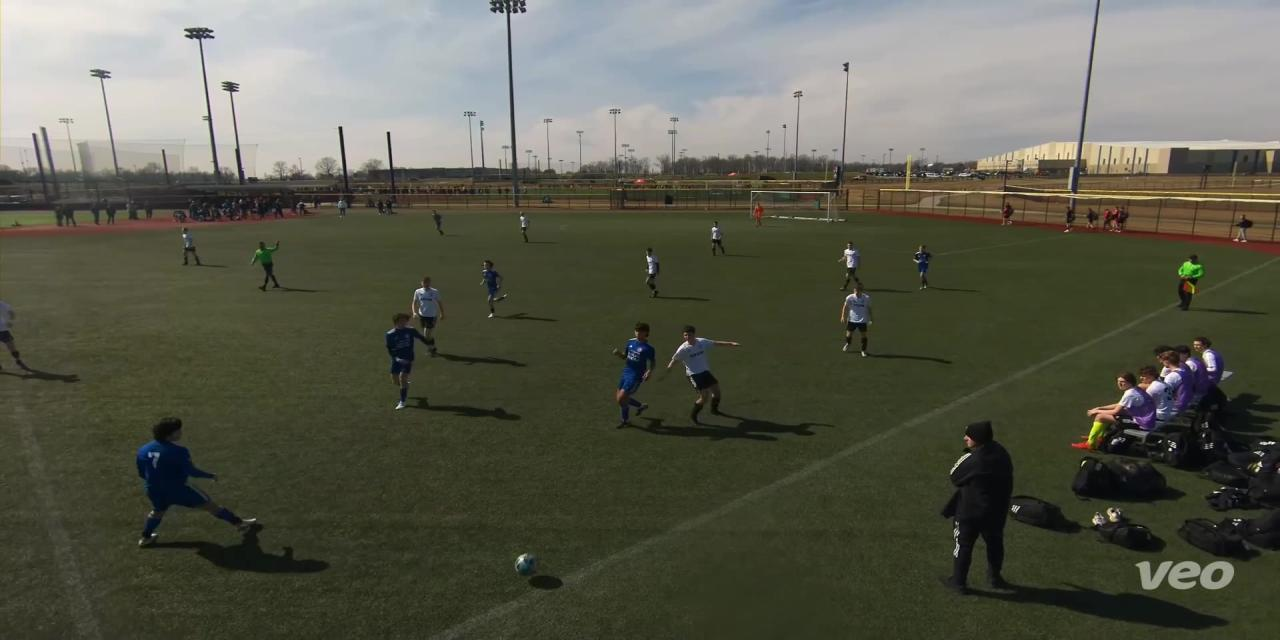goal: (744, 185, 853, 227)
sports ball: (499, 544, 548, 580)
